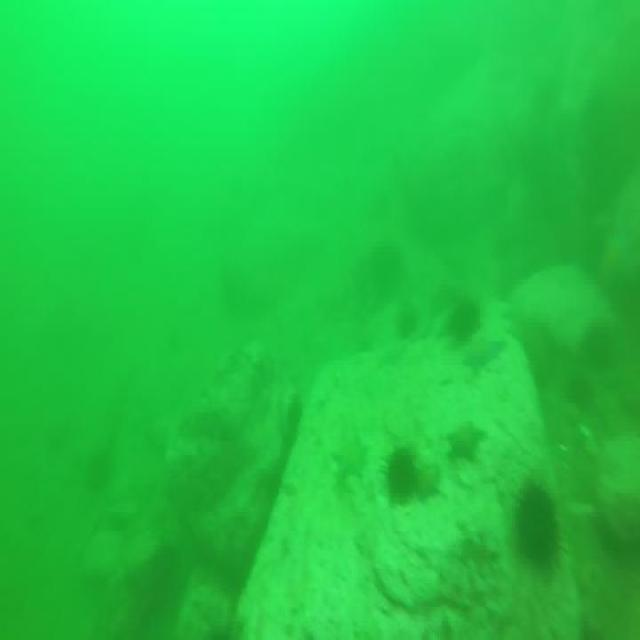echinus: (512, 480, 564, 568), (444, 299, 486, 349), (386, 444, 414, 503)
starfish: (330, 431, 373, 474), (446, 417, 484, 465), (466, 340, 503, 376)
